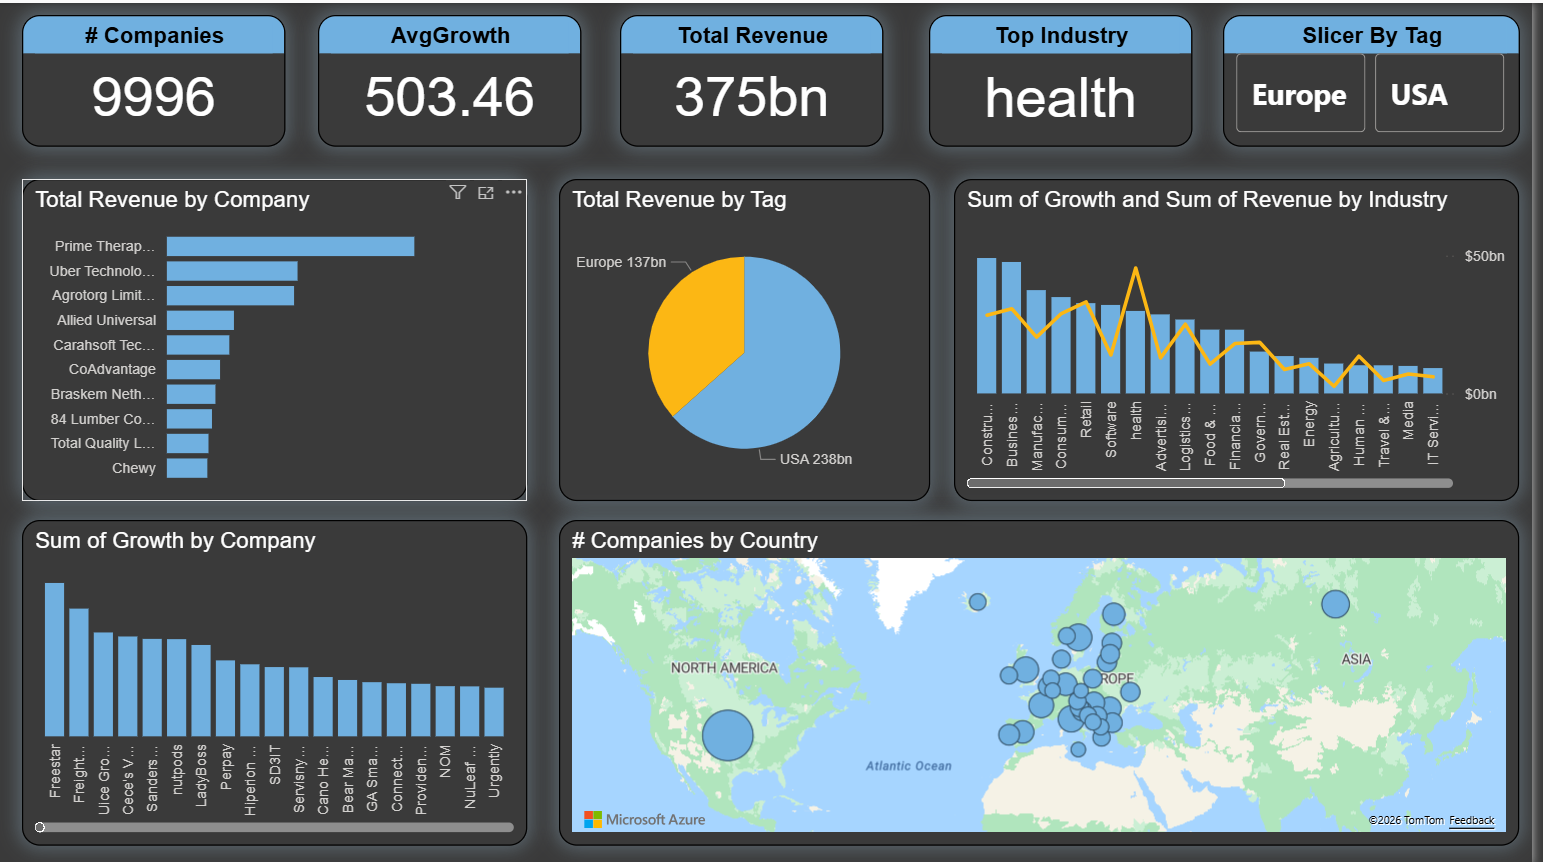

What the dashboard file says about the page in this screenshot:
{"tool":"powerbi","page":{"name":"Page 1","canvas":[1280,720],"ordinal":0},"visuals":[{"type":"card","title":"# Companies","fields":{"Values":["Dax_measures.# Companies"]},"box":[18.1,10.4,219.9,109.5],"z":0},{"type":"card","title":"AvgGrowth","fields":{"Values":["Dax_measures.AvgGrowth"]},"box":[265.7,10.4,219.9,109.5],"z":1000},{"type":"card","title":"Total Revenue","fields":{"Values":["Dax_measures.Total Revenue"]},"box":[517.5,10.4,219.9,109.5],"z":2000},{"type":"barChart","fields":{"Y":["Dax_measures.Total Revenue"],"Category":["WorldWied.Company"]},"box":[18.1,146.6,421.8,269.1],"z":3000},{"type":"pieChart","fields":{"Y":["Dax_measures.Total Revenue"],"Category":["WorldWied.Tag"]},"box":[466.6,146.6,309.6,269.1],"z":4000},{"type":"lineStackedColumnComboChart","fields":{"Category":["WorldWied.Industry"],"Y":["Sum(WorldWied.Growth)"],"Y2":["Sum(WorldWied.Revenue)"]},"box":[797,146.6,471.8,269.1],"z":6001},{"type":"card","title":"Top Industry","fields":{"Values":["Dax_measures.Top Industry"]},"box":[776.3,10.4,219.9,110.4],"z":6002},{"type":"advancedSlicerVisual","title":"Slicer By Tag","fields":{"Values":["WorldWied.Tag"]},"box":[1021.2,10.4,247.5,109.5],"z":6003},{"type":"clusteredColumnChart","fields":{"Category":["WorldWied.Company"],"Y":["Sum(WorldWied.Growth)"]},"box":[18.1,432.1,421.8,271.7],"z":6005},{"type":"map","fields":{"Category":["WorldWied.Country"],"Size":["Dax_measures.# Companies"]},"box":[466.6,432.1,802.2,271.7],"z":6006}]}

Visuals, with their boxes in screenshot pixels (x1, y1, x2, y2), scaled from the page's 1280x720 canvas onto the 1543x862 screenshot:
"# Companies" card: (left=22, top=12, right=287, bottom=144)
"AvgGrowth" card: (left=320, top=12, right=585, bottom=144)
"Total Revenue" card: (left=624, top=12, right=889, bottom=144)
barChart - Dax_measures.Total Revenue x WorldWied.Company: (left=22, top=176, right=530, bottom=498)
pieChart - Dax_measures.Total Revenue x WorldWied.Tag: (left=562, top=176, right=936, bottom=498)
lineStackedColumnComboChart - WorldWied.Industry x Sum(WorldWied.Growth): (left=961, top=176, right=1529, bottom=498)
"Top Industry" card: (left=936, top=12, right=1201, bottom=145)
"Slicer By Tag" advancedSlicerVisual: (left=1231, top=12, right=1529, bottom=144)
clusteredColumnChart - WorldWied.Company x Sum(WorldWied.Growth): (left=22, top=517, right=530, bottom=843)
map - WorldWied.Country x Dax_measures.# Companies: (left=562, top=517, right=1529, bottom=843)
